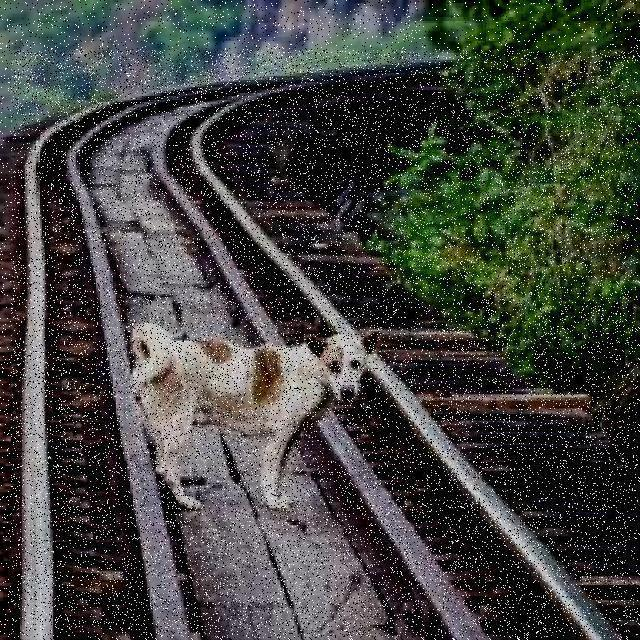rail: (12, 52, 640, 640)
